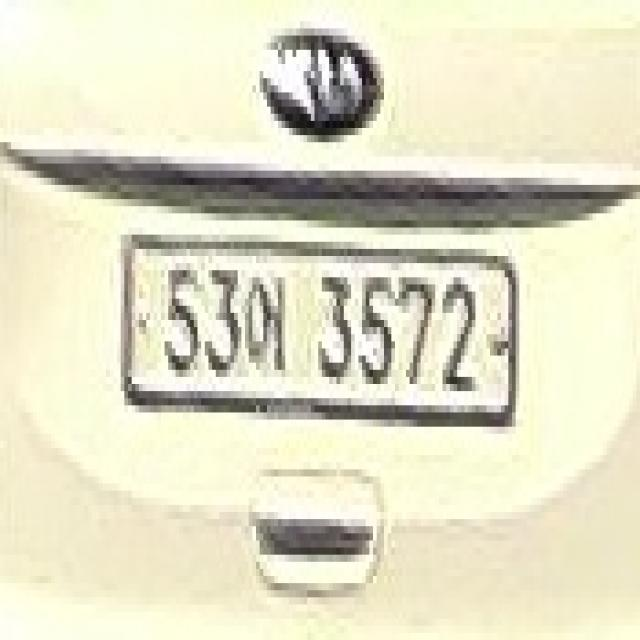2: (435, 278, 490, 420)
3: (311, 249, 355, 398), (202, 242, 242, 405)
5: (354, 249, 398, 405), (154, 249, 201, 391)
7: (398, 249, 438, 405)
eo: (245, 249, 296, 384)
license_plate: (102, 206, 523, 441)
